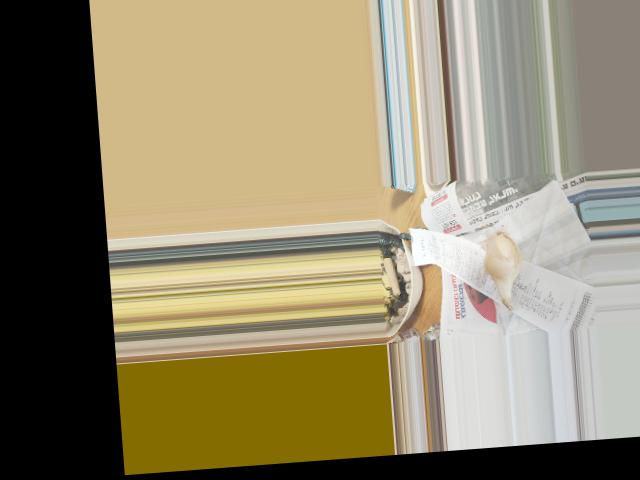onion: (484, 231, 518, 285)
